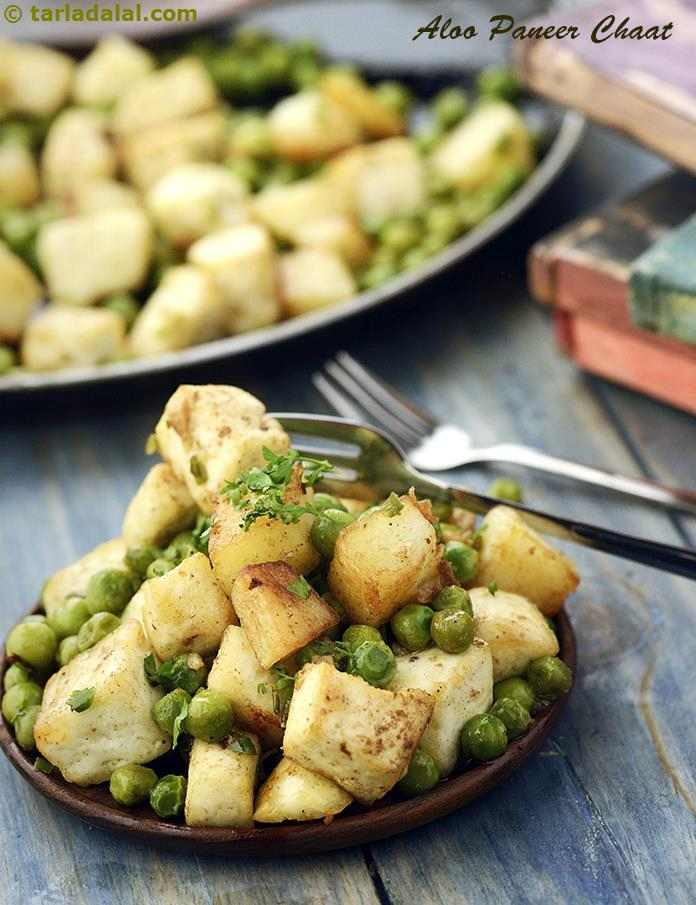boiled peas: (1, 555, 141, 652), (461, 665, 576, 757), (156, 662, 228, 738), (388, 595, 476, 648), (8, 624, 45, 733), (115, 761, 185, 813), (328, 629, 395, 681)
boiled potatoes: (156, 384, 289, 485), (36, 658, 156, 769), (302, 681, 406, 772), (485, 507, 565, 621), (336, 516, 429, 605), (149, 567, 231, 643), (227, 581, 319, 648), (131, 470, 189, 532)
